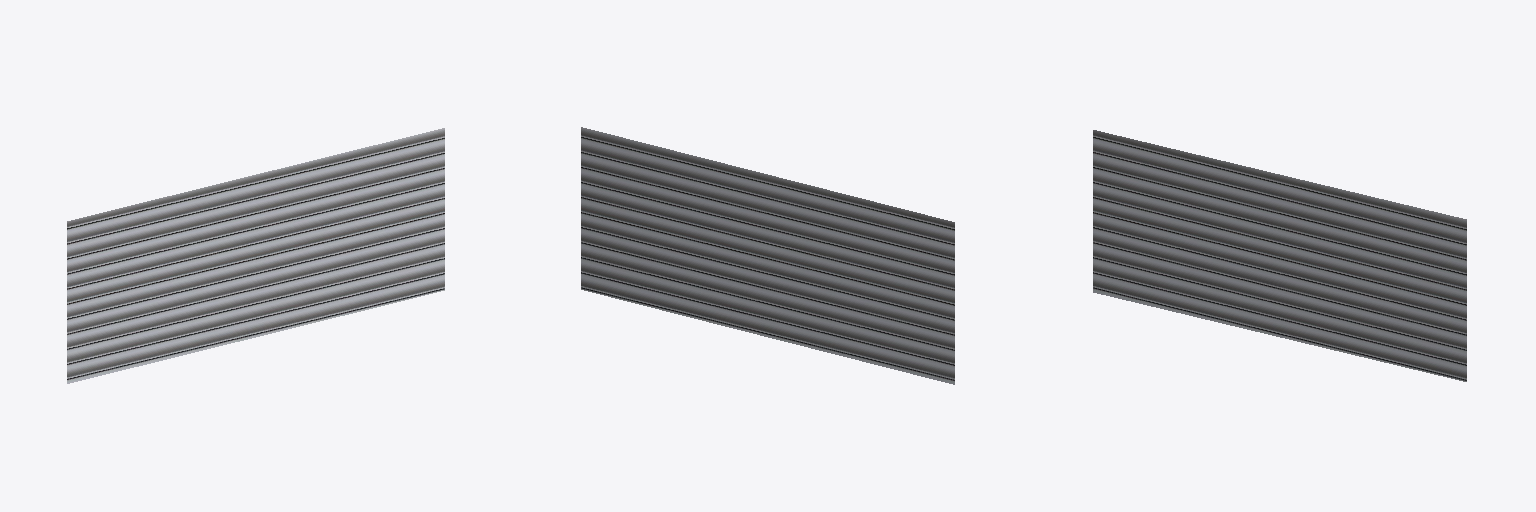
3 renders of one model, left to right at view 1: azimuth 30°, elevation 25°; view 2: azimuth 150°, elevation 25°; view 3: azimuth 330°, elevation 25°, orthographic.
Parts seen in each view (by area): view 1: garage_Cube.004; view 2: garage_Cube.004; view 3: garage_Cube.004.
Boxes of the visible parts, <box> form: garage_Cube.004: <box>67,128,444,383</box>; garage_Cube.004: <box>581,127,954,384</box>; garage_Cube.004: <box>1093,130,1466,381</box>.
Size of the model in its own units: 86.16 by 36.25 by 0.5591.
1 materials, 1 textured.